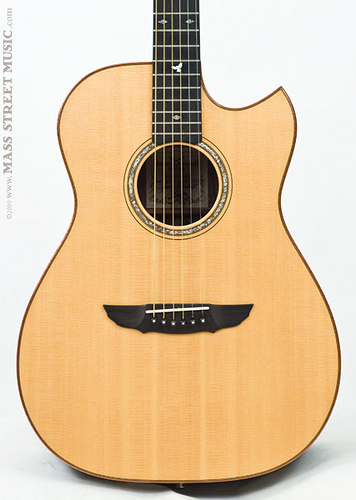acoustic guitar: (14, 1, 344, 485)
